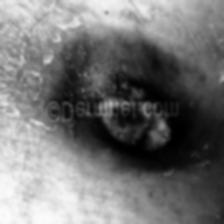Toxin: (62, 38, 194, 96), (99, 120, 177, 154)
